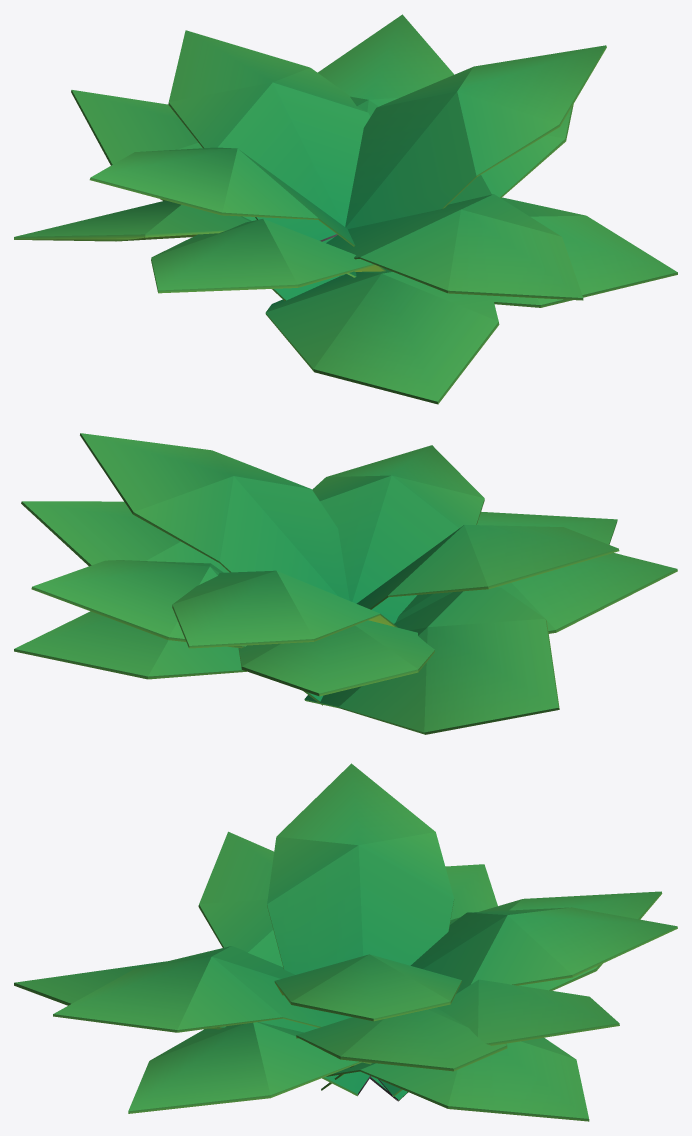
File: PLANTA.fbx
3 views of the same model, one above another, from view 1: azimuth 30°, elevation 25°; view 2: azimuth 150°, elevation 25°; view 3: azimuth 270°, elevation 25° (orthographic). The views are drawn at different scales.
Parts seen in each view (by area): view 1: planta; view 2: planta; view 3: planta.
Part boxes in pixels (bbox=[...]): planta: bbox=[14, 14, 677, 404]; planta: bbox=[14, 433, 677, 734]; planta: bbox=[14, 763, 677, 1121].
Bounding box in the file's own units: 133 × 142 × 47.29.
Materials: 1 (1 with a texture image).
